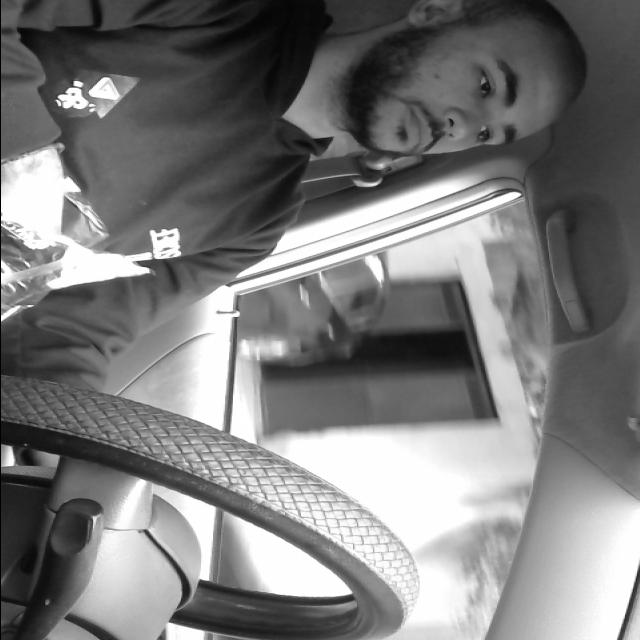eating: (1, 161, 152, 327)
